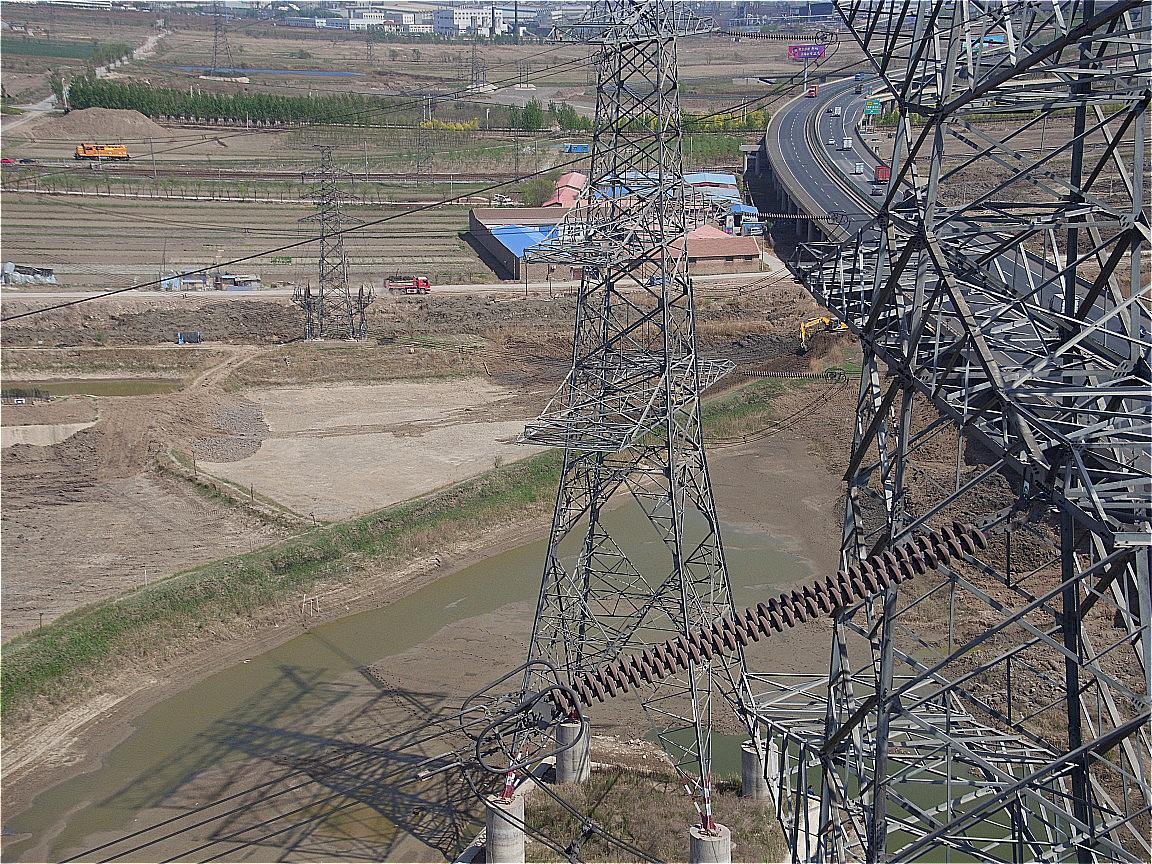insultor1: (551, 522, 987, 717)
